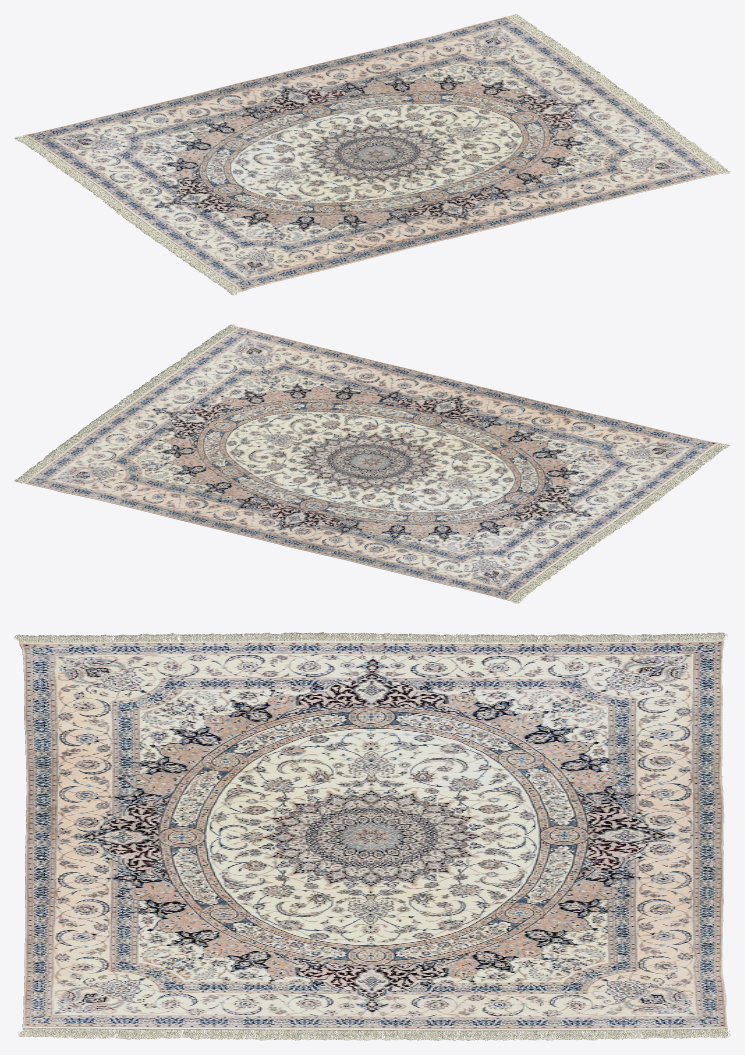
The model's file is persian_nain_carpet.glb.
3 views of the same model, one above another, from view 1: azimuth 30°, elevation 25°; view 2: azimuth 150°, elevation 25°; view 3: azimuth 270°, elevation 25° (orthographic). The views are drawn at different scales.
Parts seen in each view (by area): view 1: Persian Nain Carpet_2, frange1_0, frange2_1; view 2: Persian Nain Carpet_2, frange1_0, frange2_1; view 3: Persian Nain Carpet_2, frange2_1, frange1_0.
Part boxes in pixels (x1,y1,x2,y2): Persian Nain Carpet_2: (24, 16, 719, 291); frange1_0: (14, 135, 240, 295); frange2_1: (507, 14, 730, 173); Persian Nain Carpet_2: (25, 327, 719, 600); frange1_0: (508, 443, 730, 603); frange2_1: (14, 324, 238, 483); Persian Nain Carpet_2: (19, 640, 727, 1030); frange2_1: (17, 1028, 730, 1040); frange1_0: (14, 632, 727, 642).
Bounding box in the file's own units: 4.17 × 0.0247 × 3.1.
2 materials, 1 textured.
